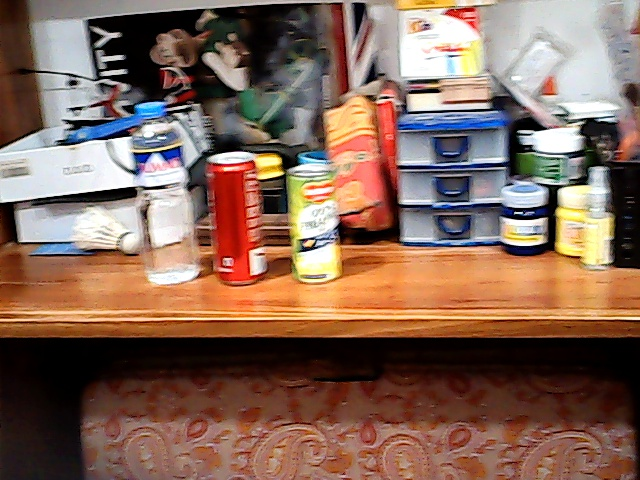Cola: (206, 155, 266, 281)
Pine Juice: (283, 164, 349, 287)
Summit Water: (132, 106, 198, 280)
